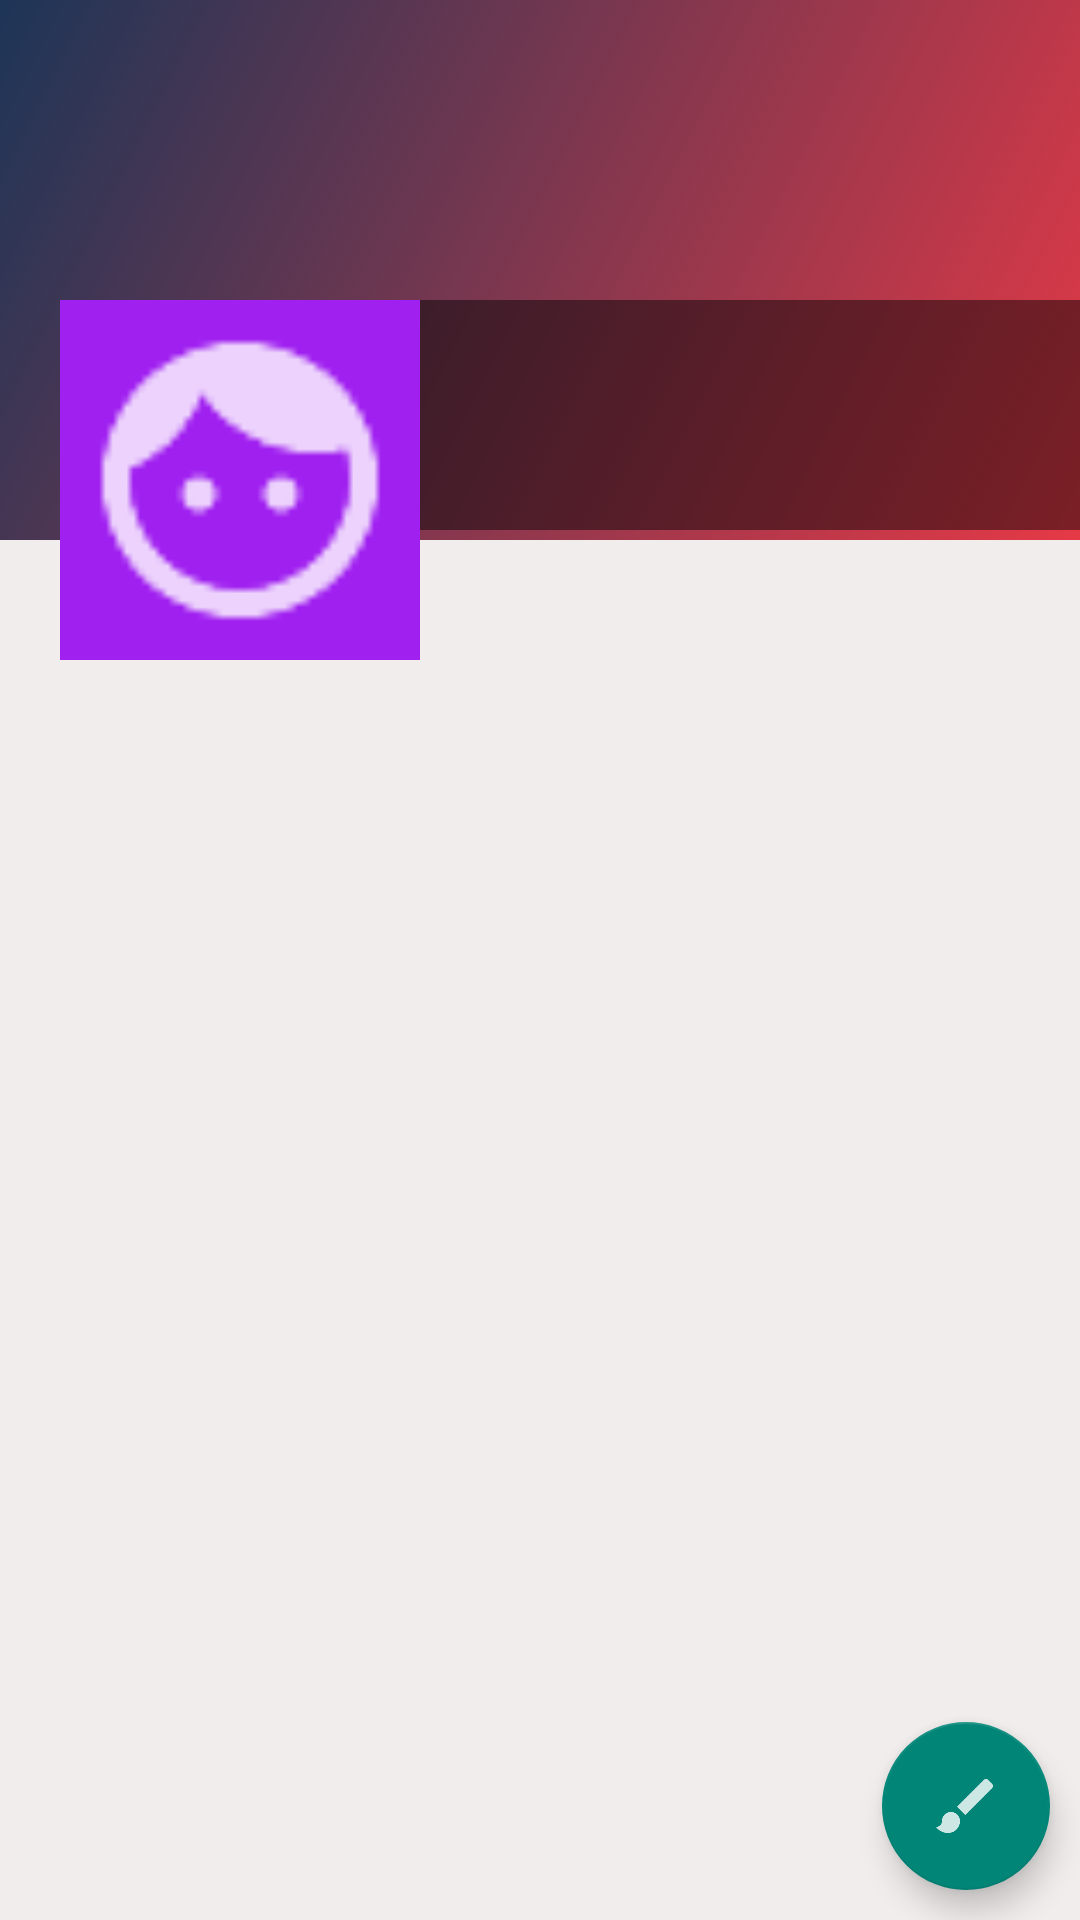

Screen size 1080px×1920px. Icon name, then its box in pixels as (x1, y1, x2, y2):
edit: (882, 1722, 1050, 1890)
